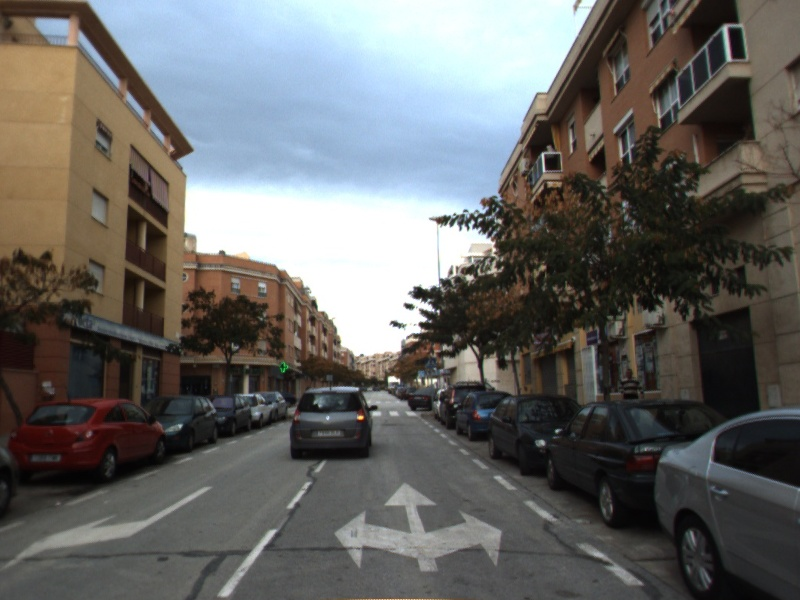STRAIGHT_LEFT_RIGHT: (332, 480, 504, 574)
